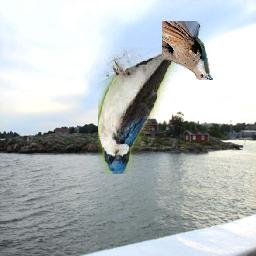Cuckoo: (163, 22, 214, 81)
Swallow: (99, 48, 180, 175)
